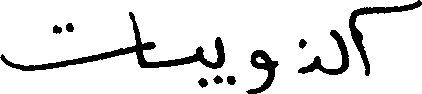ا: (347, 28, 372, 76), (127, 10, 143, 69)
ب: (193, 44, 207, 88)
ت: (0, 10, 128, 71)
ذ: (297, 37, 316, 74)
ل: (329, 16, 348, 75)
و: (247, 48, 272, 92)
ي: (214, 35, 235, 87)
